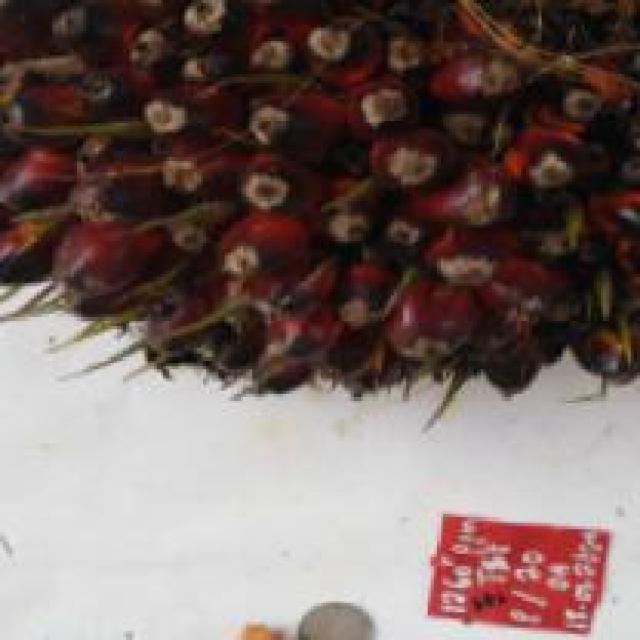underripe: (0, 0, 640, 471)
